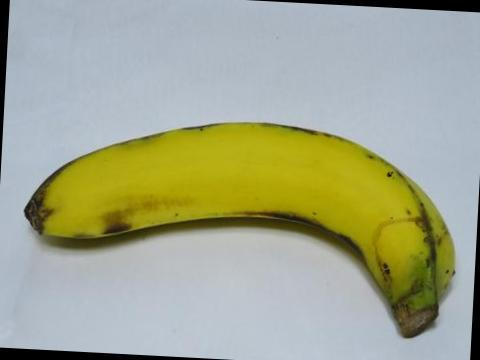freshripe: (17, 106, 458, 338)
